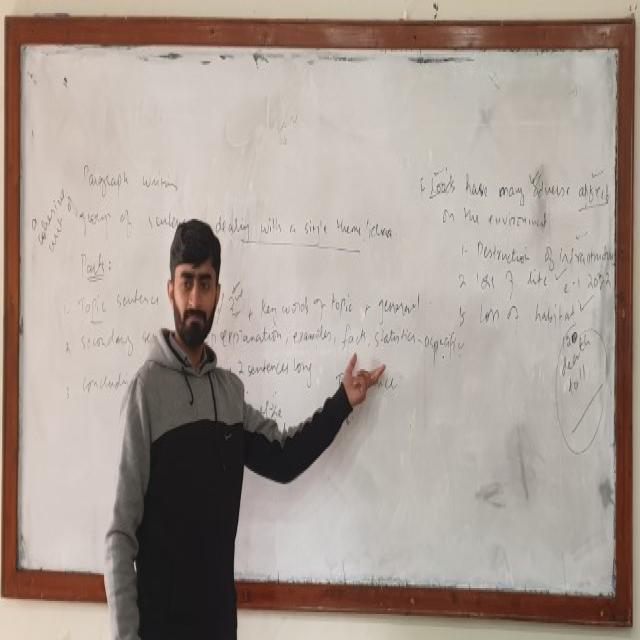Instructor: (114, 209, 253, 640)
White-board: (8, 32, 625, 612)
